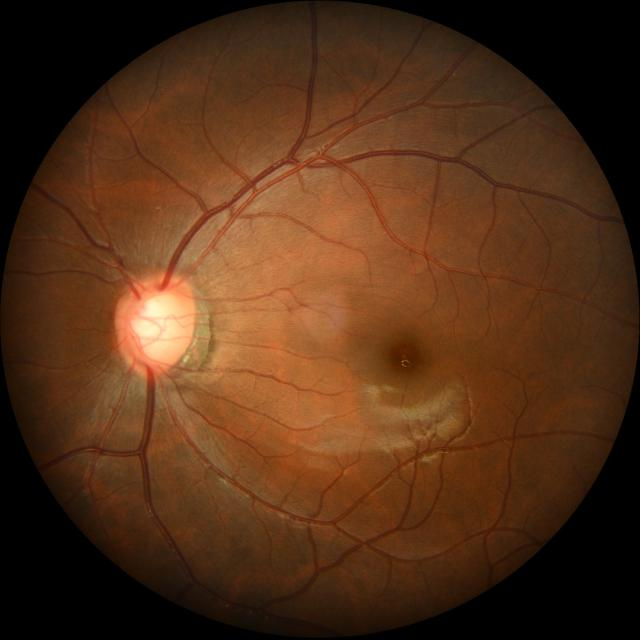OC: (133, 292, 181, 361)
OD: (114, 272, 198, 374)
